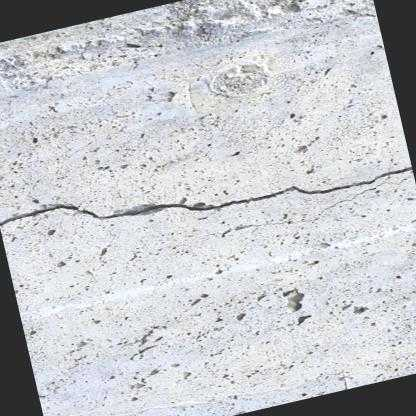crack: (0, 164, 413, 227)
